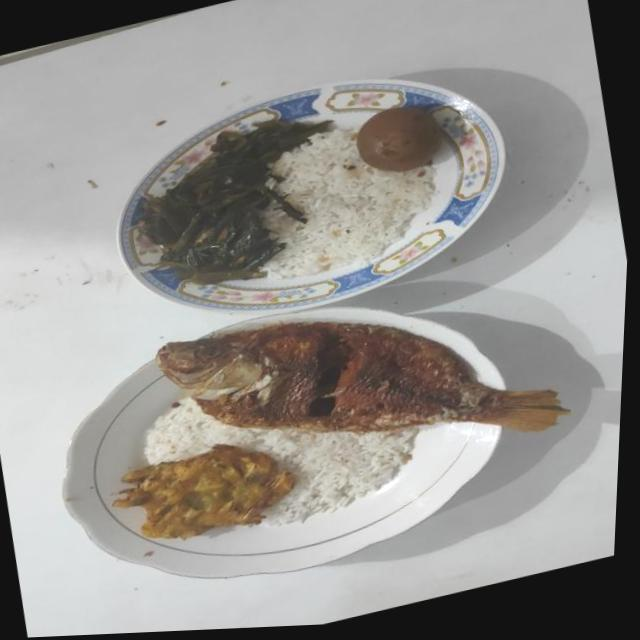ikan_mujair: (157, 322, 567, 433)
nasi_putih: (145, 400, 418, 526), (264, 128, 440, 279)
tumis_kangkung: (138, 120, 332, 284)
